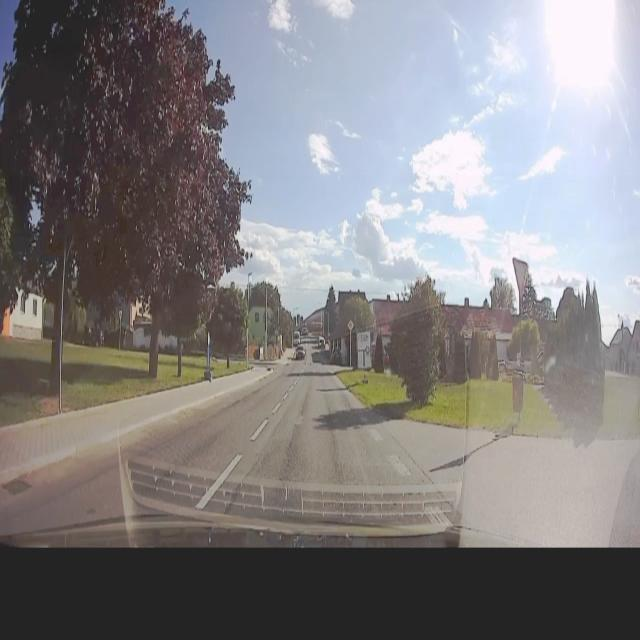Priority road: (346, 317, 354, 332)
